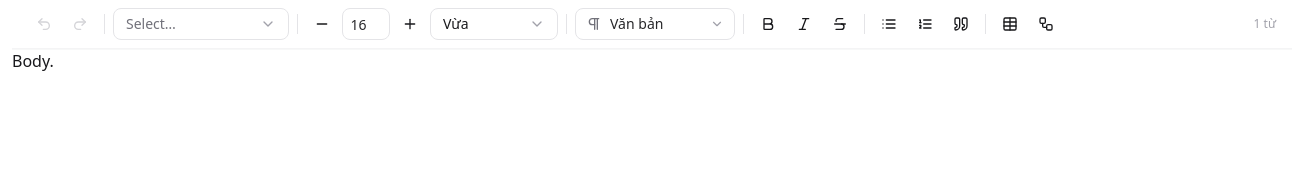
Test case: EditorToolbar › inserts a table via the toolbar button
The image size is (1292, 169).
Click the button named "Chèn bảng" at (1010, 24), box [994, 8, 1026, 40]
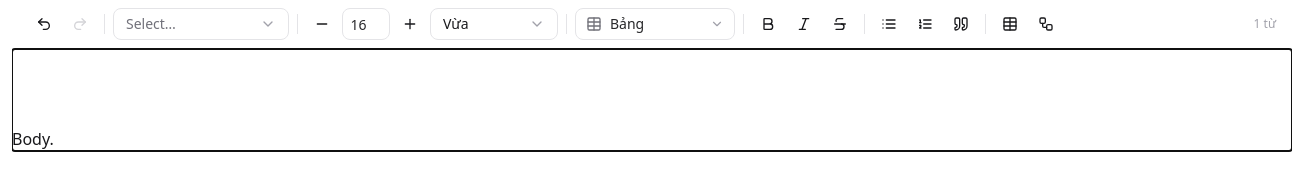
Result: the table is shown at [12, 49, 87, 127]
